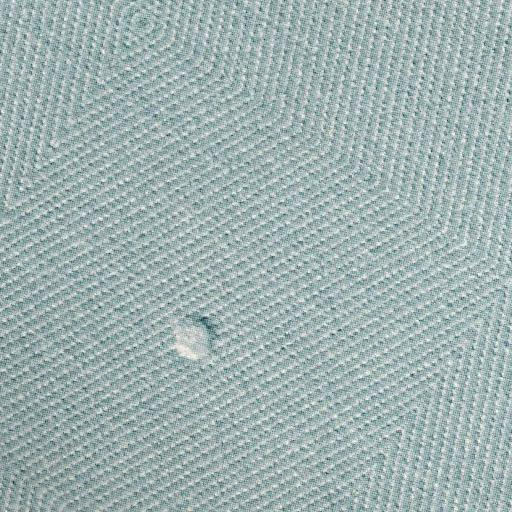knot: (163, 296, 227, 369)
